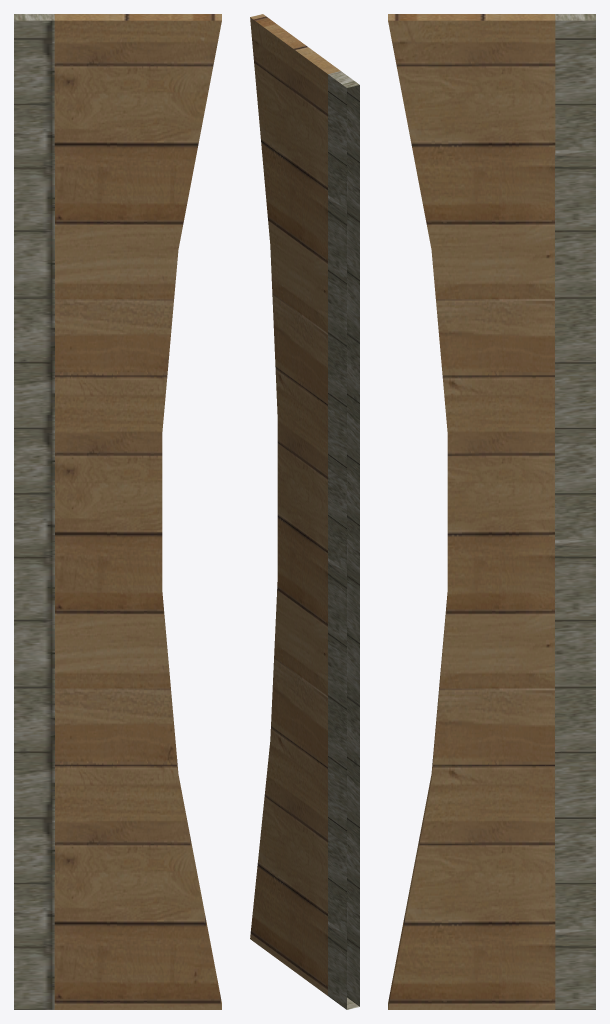
File: nt_concrete_fence_256_LOD1.obj
3 views of the same model, side by side, from view 1: azimuth 90°, elevation 25°; view 2: azimuth 210°, elevation 25°; view 3: azimuth 270°, elevation 25° (orthographic). The views are drawn at different scales.
Parts seen in each view (by area): view 1: nt_wood_fence, nt_2020_concrete_pattern_02; view 2: nt_wood_fence, nt_2020_concrete_pattern_02; view 3: nt_wood_fence, nt_2020_concrete_pattern_02.
Part boxes in pixels (x1=…): nt_wood_fence: x1=54, y1=14, x2=221, y2=1009; nt_2020_concrete_pattern_02: x1=14, y1=14, x2=54, y2=1009; nt_wood_fence: x1=250, y1=14, x2=340, y2=995; nt_2020_concrete_pattern_02: x1=328, y1=71, x2=359, y2=1009; nt_wood_fence: x1=388, y1=14, x2=555, y2=1009; nt_2020_concrete_pattern_02: x1=555, y1=14, x2=595, y2=1009.
Bounding box in the file's own units: 9.57 × 648 × 123.
Materials: 2 (2 with a texture image).
